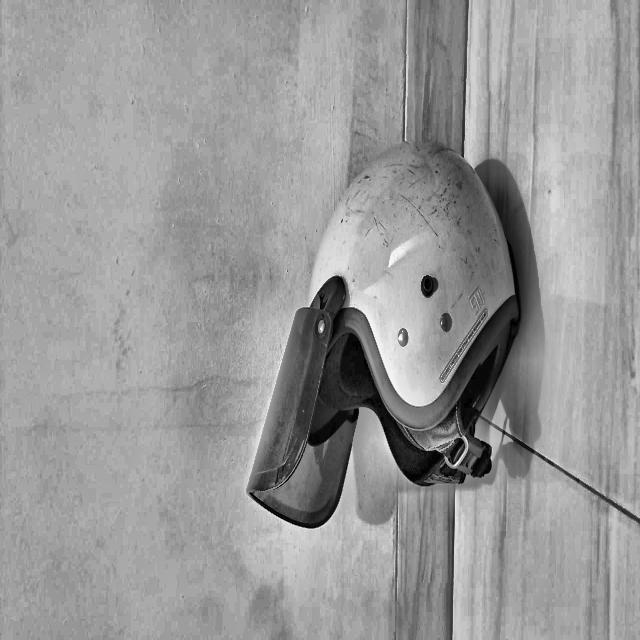Helmet: (42, 413, 294, 640)
